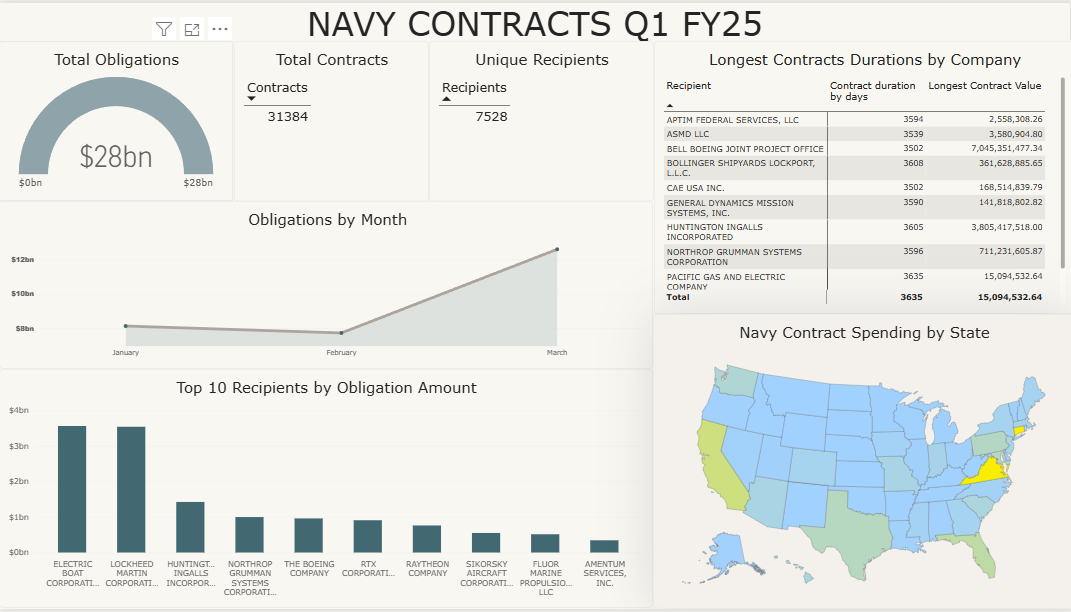

This screenshot's page, from the dashboard's own definition file:
{"tool":"powerbi","page":{"name":"Page 1","canvas":[1920,1080],"ordinal":0},"visuals":[{"type":"gauge","title":"Total Obligations","fields":{"MaxValue":["navy_contracts.Total Obligations (Fixed)"],"Y":["Sum(navy_contracts.federal_action_obligation)"]},"box":[0,67.8,417.5,285.5],"z":0},{"type":"tableEx","title":"Total Contracts","fields":{"Values":["navy_contracts.award_id_piid"]},"box":[419.3,67.8,348,285.5],"z":1000},{"type":"tableEx","title":"Unique Recipients","fields":{"Values":["navy_contracts.recipient_name"]},"box":[767.3,67.8,401.5,285.5],"z":2000},{"type":"lineChart","title":"Obligations by Month","fields":{"Category":["navy_contracts.action_date_clean.Variation.Date Hierarchy.Month"],"Y":["Sum(navy_contracts.federal_action_obligation)"]},"box":[0,353.3,1167,299],"z":3000},{"type":"clusteredColumnChart","title":"Top 10 Recipients by Obligation Amount","fields":{"Category":["navy_contracts.recipient_name"],"Y":["Sum(navy_contracts.federal_action_obligation)"]},"box":[0,653.1,1167,426.5],"z":4000},{"type":"pivotTable","title":"Longest Contracts Durations by Company","fields":{"Rows":["navy_contracts.recipient_name"],"Values":["Max(navy_contracts.contract_duration)","navy_contracts.Longest Contract Value"]},"box":[1168.8,67.8,751.2,487.1],"z":5000},{"type":"shapeMap","title":"Navy Contract Spending by State","fields":{"Category":["navy_contracts.primary_place_of_performance_state_name"],"Value":["Sum(navy_contracts.federal_action_obligation)"]},"box":[1167,554.9,753,524.6],"z":6000},{"type":"textbox","box":[0,0,1920,67.8],"z":7000}]}

Visuals, with their boxes in screenshot pixels (x1, y1, x2, y2), scaled from the page's 1920x1080 canvas onto the 1071x612 screenshot:
"Total Obligations" gauge: rect(0, 38, 233, 200)
"Total Contracts" tableEx: rect(234, 38, 428, 200)
"Unique Recipients" tableEx: rect(428, 38, 652, 200)
"Obligations by Month" lineChart: rect(0, 200, 651, 370)
"Top 10 Recipients by Obligation Amount" clusteredColumnChart: rect(0, 370, 651, 611)
"Longest Contracts Durations by Company" pivotTable: rect(652, 38, 1070, 314)
"Navy Contract Spending by State" shapeMap: rect(651, 314, 1070, 611)
textbox: rect(0, 0, 1070, 38)
